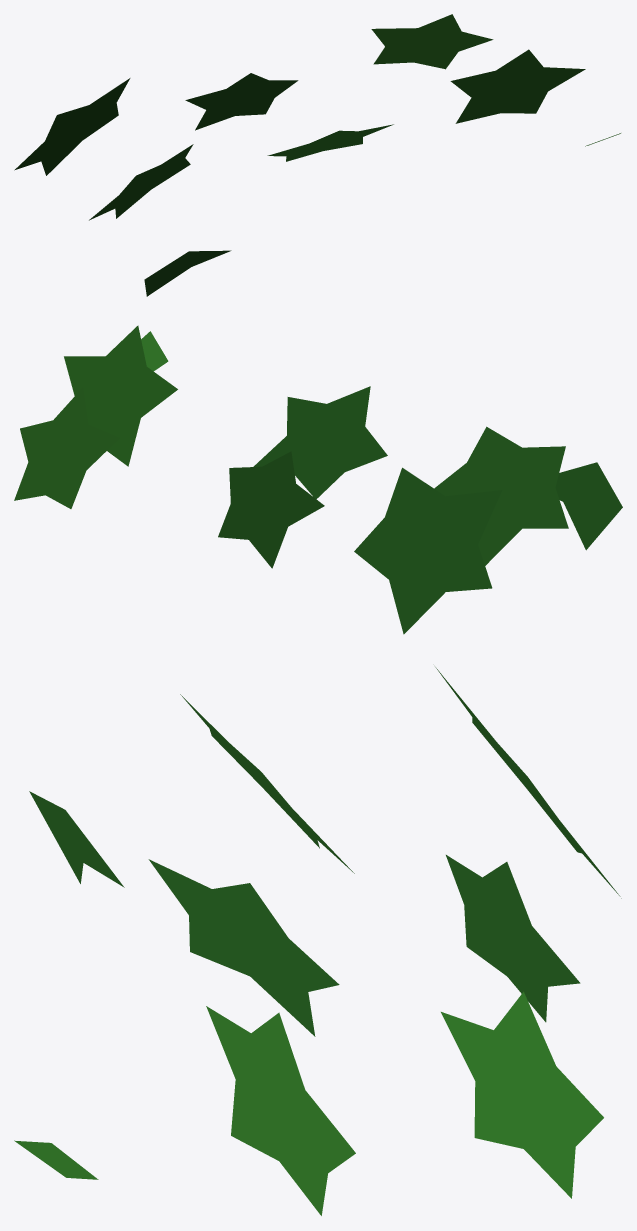
3 views of the same model, one above another, from view 1: azimuth 30°, elevation 25°; view 2: azimuth 150°, elevation 25°; view 3: azimuth 270°, elevation 25° (orthographic). The views are drawn at different scales.
Visible parts, largest first — view 1: r4c2_l01; view 2: r4c2_l01; view 3: r4c2_l01.
Part boxes in pixels (x1,y1,x2,y2): r4c2_l01: (14,14,620,296); r4c2_l01: (14,325,622,634); r4c2_l01: (14,667,621,1215).
Bounding box in the file's own units: 1.45 × 0.3743 × 0.8589.
